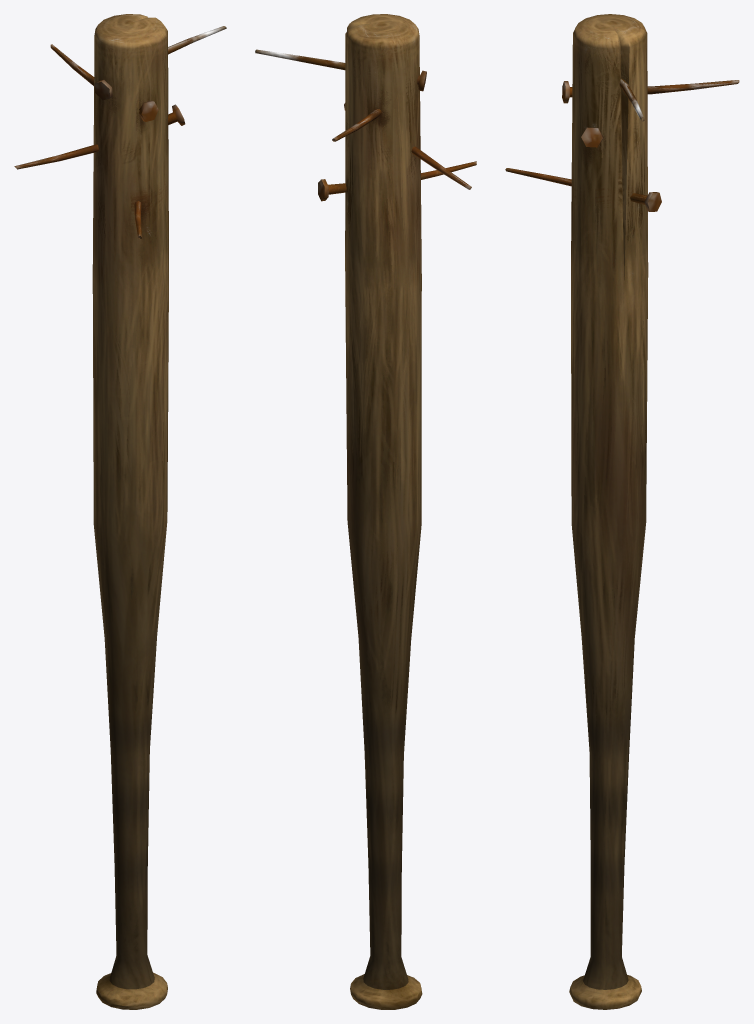
Rendered from Bat.fbx.
The picture shows the model from 3 angles, left to right: view 1: azimuth 30°, elevation 25°; view 2: azimuth 150°, elevation 25°; view 3: azimuth 270°, elevation 25°; orthographic projection.
Parts seen in each view (by area): view 1: Nailed_Bat; view 2: Nailed_Bat; view 3: Nailed_Bat.
Boxes of the visible parts, left/top/right/bottom form: Nailed_Bat: left=14, top=14, right=226, bottom=1009; Nailed_Bat: left=255, top=14, right=476, bottom=1009; Nailed_Bat: left=505, top=14, right=739, bottom=1009.
Size of the model in its own units: 0.4417 by 1.92 by 0.4176.
Materials: 1 (1 with a texture image).
